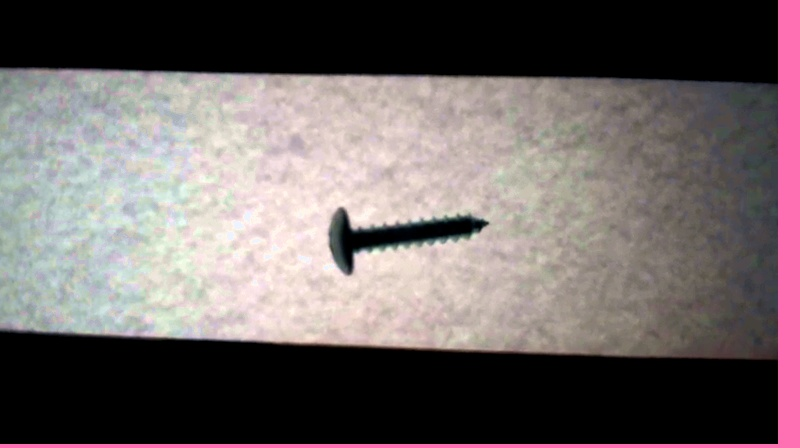S003: (322, 202, 493, 276)
